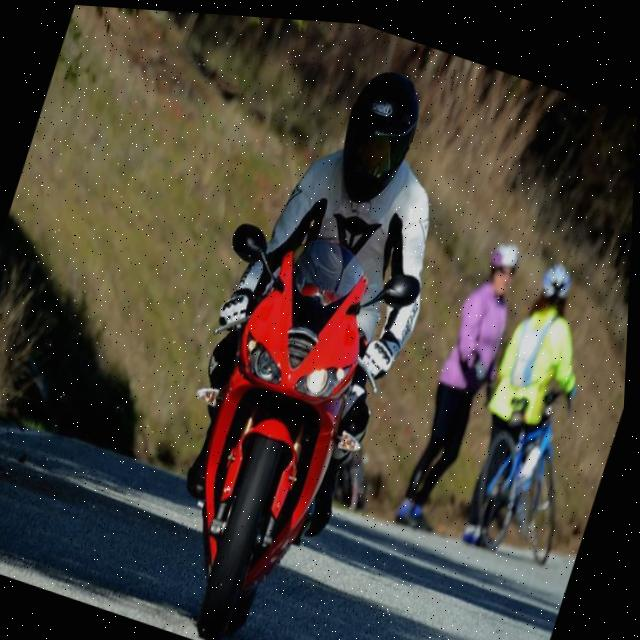motorcycle: (127, 219, 432, 640)
